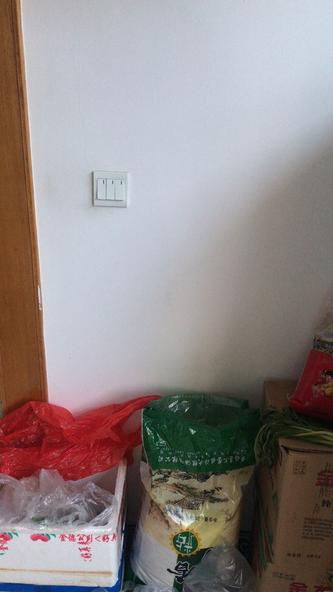switch: (104, 176, 118, 203), (113, 174, 126, 203), (93, 176, 108, 201)
